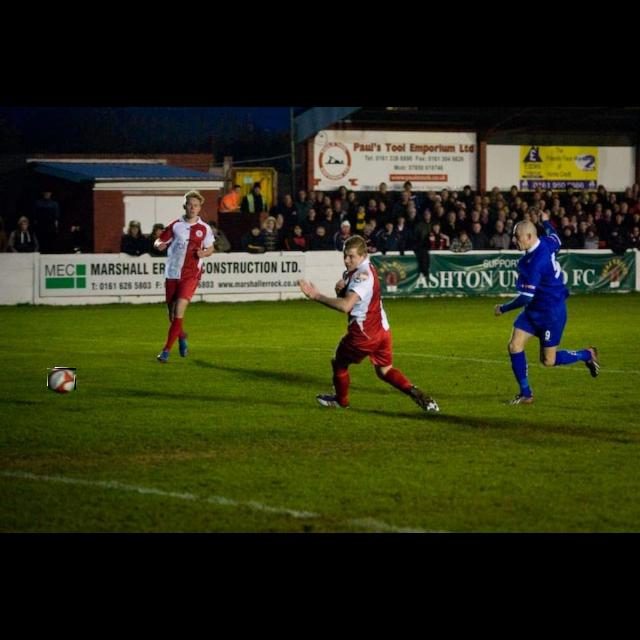Football: (48, 368, 76, 390)
